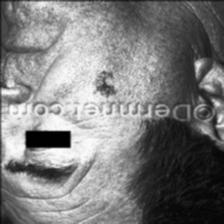Potentially Malignant Skin Tumors: (93, 68, 116, 96)
